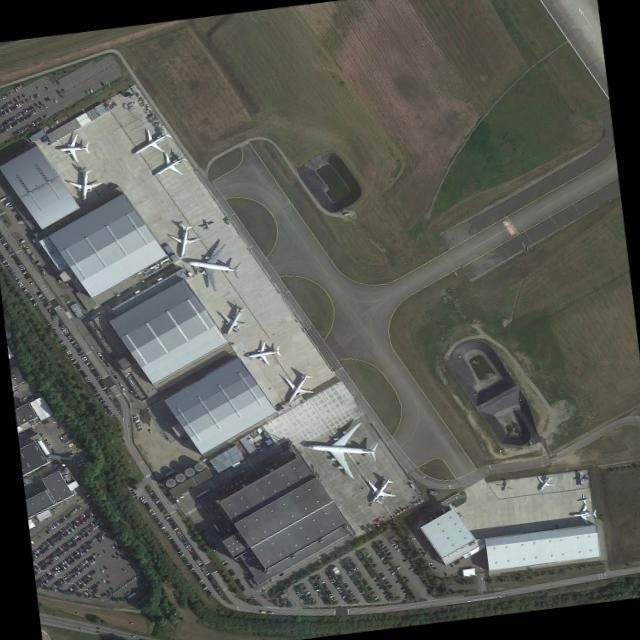plane: (299, 420, 389, 481), (179, 240, 251, 295), (124, 119, 181, 169), (142, 144, 197, 190), (353, 466, 406, 512), (273, 366, 324, 413), (209, 300, 259, 343), (64, 167, 105, 207), (55, 131, 96, 167), (241, 339, 286, 370), (167, 222, 203, 259), (529, 470, 561, 496), (567, 504, 599, 528), (492, 475, 518, 496), (197, 215, 219, 234), (575, 471, 591, 488), (576, 493, 593, 508)
small-vehicle: (31, 238, 37, 244), (100, 80, 105, 87), (31, 540, 36, 546), (33, 102, 39, 107), (206, 591, 212, 596), (279, 572, 284, 577), (51, 557, 56, 562), (43, 542, 48, 547), (55, 538, 60, 543), (54, 533, 59, 538), (57, 530, 62, 535), (19, 112, 24, 117), (30, 112, 35, 117), (0, 255, 5, 260), (44, 97, 49, 102), (38, 101, 43, 106), (379, 585, 384, 590), (94, 535, 99, 540), (97, 538, 102, 543), (111, 554, 116, 559), (76, 538, 81, 543), (54, 566, 59, 571), (89, 561, 94, 566), (75, 581, 80, 586), (72, 584, 77, 589), (64, 574, 69, 579), (134, 419, 140, 423), (20, 240, 26, 244), (5, 202, 11, 206), (8, 251, 14, 255), (229, 571, 235, 575), (222, 560, 228, 564), (203, 586, 209, 590), (198, 579, 204, 583), (196, 577, 202, 581), (164, 531, 170, 535), (96, 393, 101, 397), (94, 373, 99, 377), (98, 380, 103, 384), (68, 353, 73, 357), (98, 397, 103, 401), (121, 439, 126, 443), (120, 434, 124, 439), (96, 375, 101, 379), (83, 358, 88, 362), (81, 356, 86, 360), (78, 350, 83, 354), (66, 350, 71, 354), (60, 341, 65, 345), (55, 334, 60, 338), (99, 356, 104, 360), (97, 352, 102, 356), (130, 389, 134, 394), (86, 379, 91, 383), (121, 387, 126, 391), (119, 383, 124, 387), (95, 391, 100, 395), (102, 386, 107, 390), (61, 326, 66, 330), (59, 546, 63, 551), (40, 566, 45, 570), (39, 561, 44, 565), (38, 568, 42, 573), (33, 550, 38, 554), (35, 549, 40, 553), (80, 531, 85, 535), (78, 532, 83, 536), (75, 534, 80, 538), (70, 539, 75, 543), (68, 540, 73, 544), (66, 541, 71, 545), (55, 555, 60, 559), (67, 524, 71, 529), (71, 527, 75, 532), (76, 517, 80, 522), (78, 516, 83, 520), (88, 513, 92, 518), (50, 536, 55, 540), (40, 545, 45, 549), (46, 540, 50, 545), (49, 537, 53, 542), (52, 535, 57, 539), (59, 535, 63, 540), (56, 532, 61, 536), (64, 531, 69, 535), (61, 528, 66, 532), (59, 324, 64, 328), (38, 118, 42, 123), (39, 117, 44, 121), (45, 114, 49, 119), (13, 115, 17, 120), (31, 122, 36, 126), (13, 105, 18, 109), (13, 98, 18, 102), (2, 105, 7, 109), (24, 126, 28, 131), (13, 132, 18, 136), (62, 88, 66, 93), (46, 97, 51, 101), (54, 99, 58, 104), (19, 102, 24, 106), (36, 93, 40, 98), (3, 242, 8, 246), (65, 282, 69, 287), (25, 292, 30, 296), (14, 258, 19, 262), (17, 280, 22, 284), (6, 265, 11, 269), (21, 267, 26, 271), (24, 108, 29, 112), (1, 123, 6, 127), (3, 121, 8, 125), (5, 109, 10, 113), (26, 108, 31, 112), (1, 240, 6, 244), (18, 218, 23, 222), (15, 214, 20, 218), (26, 114, 30, 119), (85, 526, 90, 530), (193, 556, 198, 560), (316, 588, 321, 592), (298, 593, 303, 597), (236, 581, 241, 585), (235, 579, 240, 583), (317, 577, 322, 581), (340, 579, 345, 583), (231, 573, 236, 577), (228, 569, 233, 573), (224, 562, 229, 566), (201, 584, 206, 588), (207, 576, 212, 580), (175, 546, 180, 550), (374, 578, 379, 582), (387, 584, 392, 588), (368, 588, 373, 592), (389, 568, 394, 572), (370, 591, 375, 595), (102, 592, 107, 596), (106, 580, 111, 584), (359, 587, 363, 592), (358, 586, 363, 590), (352, 565, 357, 569), (357, 572, 362, 576), (384, 579, 389, 583), (397, 566, 402, 570), (93, 536, 97, 541), (80, 546, 85, 550), (73, 551, 78, 555), (69, 554, 74, 558), (66, 557, 71, 561), (57, 564, 62, 568), (114, 542, 119, 546), (60, 567, 65, 571), (70, 558, 75, 562), (100, 569, 105, 573), (79, 536, 84, 540), (59, 578, 64, 582), (55, 571, 60, 575), (53, 572, 57, 577), (58, 585, 62, 590), (57, 579, 62, 583), (46, 577, 51, 581), (42, 581, 46, 586), (103, 566, 108, 570), (84, 565, 89, 569), (77, 570, 81, 575), (180, 536, 185, 540), (168, 536, 173, 540), (166, 533, 171, 537), (161, 526, 166, 530), (102, 579, 107, 583), (95, 588, 100, 592), (70, 585, 75, 589), (80, 578, 85, 582), (66, 573, 71, 577), (79, 563, 83, 568), (76, 566, 81, 570), (71, 569, 76, 573), (106, 589, 110, 594), (92, 569, 96, 574), (90, 570, 94, 575), (84, 575, 89, 579), (137, 426, 143, 429), (0, 258, 6, 261), (2, 260, 8, 263), (332, 599, 338, 602), (380, 557, 386, 560), (90, 384, 94, 388), (89, 383, 93, 387), (88, 381, 92, 385), (83, 374, 87, 378), (56, 522, 60, 526), (54, 523, 58, 527), (53, 525, 57, 529), (49, 527, 53, 531), (47, 529, 51, 533), (45, 530, 49, 534), (38, 535, 42, 539), (149, 429, 153, 433), (149, 423, 153, 427), (106, 409, 110, 413), (106, 407, 110, 411), (65, 515, 69, 519), (65, 348, 69, 352), (61, 343, 65, 347), (70, 338, 74, 342), (130, 399, 134, 403), (111, 371, 115, 375), (101, 400, 105, 404), (93, 388, 97, 392), (63, 516, 67, 520), (67, 513, 71, 517), (61, 545, 65, 549), (57, 547, 61, 551), (55, 549, 59, 553), (52, 552, 56, 556), (50, 553, 54, 557), (47, 556, 51, 560), (37, 563, 41, 567), (36, 570, 40, 574), (38, 552, 42, 556), (36, 553, 40, 557), (37, 548, 41, 552), (64, 542, 68, 546), (41, 549, 45, 553), (67, 546, 71, 550), (84, 528, 88, 532), (82, 529, 86, 533), (77, 533, 81, 537), (74, 536, 78, 540), (72, 537, 76, 541), (44, 563, 48, 567), (64, 548, 68, 552), (60, 551, 64, 555), (58, 552, 62, 556), (53, 557, 57, 561), (49, 559, 53, 563), (48, 561, 52, 565), (38, 546, 42, 550), (43, 548, 47, 552), (89, 508, 93, 512), (79, 521, 83, 525), (72, 526, 76, 530), (69, 523, 73, 527), (71, 521, 75, 525), (77, 522, 81, 526), (73, 520, 77, 524), (75, 519, 79, 523), (81, 519, 85, 523), (83, 518, 87, 522), (86, 515, 90, 519), (87, 509, 91, 513), (85, 510, 89, 514), (82, 513, 86, 517), (66, 526, 70, 530), (64, 527, 68, 531), (45, 547, 49, 551), (42, 543, 46, 547), (47, 545, 51, 549), (50, 542, 54, 546), (47, 539, 51, 543), (52, 541, 56, 545), (54, 539, 58, 543), (67, 530, 71, 534), (57, 537, 61, 541), (61, 534, 65, 538), (60, 530, 64, 534), (63, 328, 67, 332), (87, 524, 91, 528), (16, 120, 20, 124), (9, 125, 13, 129), (16, 115, 20, 119), (17, 114, 21, 118), (23, 110, 27, 114), (36, 120, 40, 124), (34, 110, 38, 114), (5, 93, 9, 97), (11, 106, 15, 110), (33, 94, 37, 98), (20, 129, 24, 133), (22, 128, 26, 132), (26, 125, 30, 129), (32, 111, 36, 115), (40, 107, 44, 111), (9, 91, 13, 95), (1, 95, 5, 99), (46, 87, 50, 91), (36, 86, 40, 90), (44, 105, 48, 109), (4, 111, 8, 115), (0, 113, 4, 117), (85, 91, 89, 95), (18, 96, 22, 100), (22, 94, 26, 98), (25, 98, 29, 102), (30, 96, 34, 100), (90, 89, 94, 93), (40, 267, 44, 271), (10, 205, 14, 209), (25, 290, 29, 294), (30, 281, 34, 285), (26, 276, 30, 280), (11, 272, 15, 276), (9, 268, 13, 272), (8, 266, 12, 270), (6, 263, 10, 267), (21, 111, 25, 115), (18, 119, 22, 123), (12, 122, 16, 126), (10, 123, 14, 127), (5, 120, 9, 124), (7, 119, 11, 123), (9, 118, 13, 122), (11, 117, 15, 121), (15, 88, 19, 92), (56, 81, 60, 85), (9, 107, 13, 111), (24, 115, 28, 119), (28, 113, 32, 117), (242, 589, 246, 593), (337, 586, 341, 590), (342, 581, 346, 585), (337, 574, 341, 578), (339, 589, 343, 593), (201, 565, 205, 569), (212, 581, 216, 585), (195, 574, 199, 578), (206, 574, 210, 578), (174, 545, 178, 549), (173, 543, 177, 547), (366, 567, 370, 571), (323, 586, 327, 590), (374, 564, 378, 568), (103, 360, 107, 364), (434, 514, 438, 518), (432, 515, 436, 519), (427, 518, 431, 522), (375, 596, 379, 600), (362, 560, 366, 564), (351, 576, 355, 580), (370, 559, 374, 563), (450, 563, 454, 567), (458, 558, 462, 562), (456, 560, 460, 564), (397, 548, 401, 552), (91, 522, 95, 526), (102, 530, 106, 534), (100, 531, 104, 535), (97, 534, 101, 538), (87, 541, 91, 545), (85, 542, 89, 546), (79, 548, 83, 552), (76, 551, 80, 555), (68, 556, 72, 560), (63, 560, 67, 564), (62, 561, 66, 565), (101, 536, 105, 540), (104, 550, 108, 554), (111, 545, 115, 549), (123, 568, 127, 572), (127, 564, 131, 568), (80, 552, 84, 556), (78, 553, 82, 557), (73, 558, 77, 562), (68, 562, 72, 566), (66, 563, 70, 567), (64, 564, 68, 568), (57, 570, 61, 574), (82, 535, 86, 539), (42, 576, 46, 580), (40, 577, 44, 581), (38, 578, 42, 582), (85, 532, 89, 536), (83, 533, 87, 537), (45, 573, 49, 577), (78, 537, 82, 541), (73, 542, 77, 546), (71, 543, 75, 547), (69, 544, 73, 548), (94, 525, 98, 529), (95, 520, 99, 524), (56, 565, 60, 569), (54, 588, 58, 592), (56, 587, 60, 591), (63, 581, 67, 585), (54, 582, 58, 586), (53, 584, 57, 588), (50, 569, 54, 573), (50, 574, 54, 578), (48, 576, 52, 580), (43, 580, 47, 584), (142, 498, 146, 502), (93, 559, 97, 563), (92, 560, 96, 564), (82, 567, 86, 571), (80, 568, 84, 572), (92, 554, 96, 558), (148, 507, 152, 511), (86, 558, 90, 562), (152, 512, 156, 516), (156, 500, 160, 504), (88, 557, 92, 561), (82, 582, 86, 586), (79, 585, 83, 589), (69, 587, 73, 591), (68, 588, 72, 592), (66, 590, 70, 594), (93, 589, 97, 593), (91, 591, 95, 595), (89, 593, 93, 597), (94, 584, 98, 588), (92, 585, 96, 589), (90, 586, 94, 590), (89, 588, 93, 592), (86, 590, 90, 594), (110, 587, 114, 591), (97, 583, 101, 587), (78, 581, 82, 585), (83, 561, 87, 565), (81, 562, 85, 566), (77, 565, 81, 569), (70, 570, 74, 574), (68, 572, 72, 576), (69, 576, 73, 580), (67, 577, 71, 581), (63, 576, 67, 580), (88, 572, 92, 576), (88, 578, 92, 582), (84, 581, 88, 585), (87, 574, 91, 578), (90, 369, 95, 372), (100, 385, 105, 388), (91, 387, 96, 390), (81, 373, 86, 376), (80, 371, 85, 374), (75, 364, 80, 367), (74, 362, 79, 365), (63, 347, 68, 350), (103, 388, 108, 391), (75, 347, 80, 350), (139, 429, 144, 432), (107, 411, 112, 414), (104, 405, 109, 408), (74, 345, 79, 348), (67, 352, 72, 355), (90, 367, 95, 370), (84, 376, 89, 379), (57, 338, 62, 341), (73, 344, 78, 347), (71, 340, 76, 343), (67, 335, 72, 338), (65, 331, 70, 334), (65, 333, 70, 336), (133, 415, 138, 418), (109, 413, 114, 416), (108, 393, 113, 396), (106, 392, 111, 395), (97, 395, 102, 398), (48, 555, 53, 558), (42, 565, 47, 568), (65, 547, 70, 550), (17, 86, 20, 91), (11, 100, 14, 105), (49, 326, 54, 329), (40, 297, 45, 300), (8, 204, 13, 207), (38, 265, 43, 268), (38, 294, 43, 297), (30, 299, 35, 302), (17, 263, 22, 266), (13, 257, 18, 260), (11, 255, 16, 258), (4, 244, 9, 247), (8, 250, 13, 253), (15, 277, 20, 280), (30, 297, 35, 300), (23, 289, 28, 292), (21, 285, 26, 288), (18, 282, 23, 285), (12, 274, 17, 277), (19, 266, 24, 269), (18, 264, 23, 267), (3, 261, 8, 264), (11, 209, 16, 212), (0, 239, 5, 242), (311, 582, 316, 585), (310, 580, 315, 583), (306, 592, 311, 595), (303, 587, 308, 590), (297, 592, 302, 595), (296, 590, 301, 593), (319, 594, 324, 597), (97, 631, 102, 634), (239, 585, 244, 588), (339, 578, 344, 581), (319, 580, 324, 583), (330, 578, 335, 581), (331, 597, 336, 600), (329, 595, 334, 598), (325, 588, 330, 591), (190, 568, 195, 571), (213, 548, 218, 551), (208, 595, 213, 598), (205, 588, 210, 591), (202, 567, 207, 570), (185, 561, 190, 564), (158, 523, 163, 526), (214, 587, 219, 590), (211, 583, 216, 586), (213, 585, 218, 588), (195, 577, 200, 580), (208, 578, 213, 581), (188, 566, 193, 569), (176, 549, 181, 552), (364, 583, 369, 586), (363, 581, 368, 584), (362, 579, 367, 582), (380, 575, 385, 578), (379, 573, 384, 576), (385, 550, 390, 553), (356, 571, 361, 574), (192, 555, 197, 558), (191, 553, 196, 556), (100, 594, 105, 597), (92, 372, 97, 375), (106, 363, 109, 368), (353, 581, 358, 584), (355, 583, 360, 586), (358, 574, 363, 577), (363, 562, 368, 565), (382, 577, 387, 580), (383, 560, 388, 563), (360, 559, 365, 562), (358, 555, 363, 558), (389, 587, 394, 590), (391, 572, 396, 575), (361, 578, 366, 581), (347, 571, 352, 574), (360, 590, 365, 593), (368, 556, 373, 559), (394, 545, 399, 548), (180, 554, 185, 557), (88, 545, 93, 548), (59, 563, 64, 566), (75, 540, 78, 545), (92, 521, 97, 524), (47, 572, 52, 575), (52, 568, 57, 571), (187, 547, 192, 550), (143, 500, 148, 503), (149, 492, 154, 495), (131, 491, 136, 494), (85, 564, 90, 567), (148, 509, 153, 512), (150, 511, 155, 514), (184, 541, 189, 544), (177, 533, 182, 536), (175, 529, 180, 532), (166, 517, 171, 520), (174, 528, 179, 531), (163, 530, 168, 533), (157, 521, 162, 524), (154, 516, 159, 519), (154, 499, 159, 502), (80, 579, 83, 584), (73, 568, 78, 571), (82, 577, 87, 580), (94, 390, 98, 393), (100, 383, 104, 386), (114, 375, 117, 379), (87, 363, 91, 366), (79, 370, 83, 373), (72, 359, 76, 362), (62, 345, 66, 348), (59, 340, 63, 343), (60, 520, 64, 523), (58, 521, 62, 524), (51, 527, 55, 530), (103, 404, 107, 407), (137, 423, 141, 426), (77, 349, 81, 352), (78, 368, 82, 371), (73, 361, 77, 364), (89, 365, 93, 368), (86, 362, 90, 365), (71, 357, 75, 360), (70, 356, 74, 359), (57, 336, 61, 339), (69, 337, 73, 340), (64, 330, 68, 333), (44, 319, 48, 322), (100, 399, 104, 402), (44, 559, 47, 563), (62, 544, 66, 547), (54, 551, 58, 554), (45, 558, 49, 561), (41, 560, 45, 563), (34, 555, 38, 558), (40, 551, 44, 554), (62, 550, 66, 553), (57, 554, 61, 557), (46, 562, 50, 565), (74, 525, 78, 528), (76, 523, 79, 527), (68, 529, 72, 532), (80, 515, 84, 518), (85, 516, 88, 520), (84, 512, 87, 516), (90, 513, 94, 516), (49, 544, 52, 548), (63, 533, 66, 537), (44, 115, 47, 119), (23, 117, 26, 121), (7, 126, 10, 130), (6, 127, 9, 131), (34, 121, 37, 125), (1, 106, 4, 110), (5, 104, 8, 108), (18, 130, 21, 134), (2, 111, 5, 115), (3, 95, 7, 98), (9, 108, 12, 112), (7, 103, 10, 107), (0, 108, 3, 112), (16, 104, 19, 108), (18, 103, 21, 107), (22, 100, 25, 104), (6, 200, 10, 203), (7, 248, 11, 251), (28, 296, 32, 299), (22, 287, 26, 290), (16, 279, 20, 282), (15, 261, 19, 264), (47, 323, 51, 326), (33, 303, 37, 306), (20, 284, 24, 287), (23, 271, 27, 274), (20, 118, 24, 121), (28, 107, 32, 110), (0, 124, 3, 128), (31, 105, 34, 109), (0, 254, 3, 258), (5, 246, 9, 249), (0, 237, 4, 240), (28, 124, 31, 128), (30, 124, 34, 127), (89, 524, 93, 527), (261, 611, 267, 613), (314, 585, 318, 588), (309, 595, 313, 598), (269, 612, 275, 614), (97, 627, 101, 630), (241, 587, 245, 590), (349, 592, 353, 595), (343, 583, 347, 586), (339, 576, 343, 579), (336, 573, 340, 576), (338, 588, 342, 591), (336, 585, 340, 588), (332, 580, 336, 583), (329, 574, 332, 578), (343, 595, 347, 598), (329, 593, 333, 596), (321, 581, 325, 584), (239, 584, 243, 587), (205, 536, 209, 539), (200, 582, 204, 585), (206, 573, 210, 576), (167, 518, 171, 521), (205, 571, 209, 574), (203, 569, 207, 572), (199, 562, 203, 565), (198, 560, 202, 563), (196, 559, 200, 562), (187, 563, 191, 566), (182, 556, 186, 559), (169, 520, 173, 523), (206, 590, 210, 593), (194, 573, 198, 576), (191, 570, 195, 573), (210, 580, 214, 583), (169, 538, 173, 541), (179, 552, 183, 555), (172, 542, 176, 545), (170, 540, 174, 543), (350, 594, 354, 597), (344, 585, 348, 588), (385, 581, 389, 584), (371, 574, 375, 577), (368, 569, 372, 572), (333, 581, 337, 584), (348, 590, 352, 593), (403, 576, 407, 579), (390, 557, 394, 560), (403, 559, 407, 562), (367, 586, 371, 589), (191, 552, 195, 555), (425, 519, 428, 523), (351, 564, 355, 567), (348, 559, 352, 562), (366, 597, 370, 600), (367, 554, 371, 557), (357, 553, 361, 556), (386, 595, 390, 598), (356, 569, 360, 572), (354, 567, 358, 570), (352, 578, 356, 581), (349, 573, 353, 576), (363, 594, 367, 597), (364, 595, 368, 598), (342, 562, 346, 565), (429, 562, 433, 565), (369, 558, 373, 561), (375, 549, 379, 552), (445, 573, 448, 577), (454, 561, 457, 565), (437, 557, 440, 561), (406, 580, 410, 583), (397, 580, 401, 583), (377, 552, 381, 555), (382, 545, 386, 548), (190, 550, 194, 553), (82, 545, 86, 548), (99, 533, 103, 536), (84, 544, 88, 547), (78, 549, 81, 553), (72, 553, 75, 557), (99, 554, 102, 558), (117, 557, 121, 560), (115, 552, 119, 555), (87, 546, 90, 550), (86, 548, 89, 552), (82, 551, 86, 554), (77, 555, 80, 559), (75, 556, 78, 560), (70, 560, 73, 564), (63, 566, 67, 569), (37, 580, 41, 583), (92, 527, 96, 530), (91, 528, 94, 532), (89, 530, 93, 533), (87, 531, 91, 534), (96, 524, 100, 527), (100, 522, 104, 525), (44, 575, 48, 578), (59, 568, 62, 572), (59, 584, 63, 587), (61, 583, 65, 586), (45, 579, 49, 582), (56, 581, 60, 584), (51, 586, 55, 589), (40, 583, 44, 586), (107, 575, 111, 578), (147, 506, 151, 509), (140, 497, 144, 500), (134, 497, 138, 500), (134, 494, 138, 497), (75, 573, 79, 576), (73, 574, 77, 577), (71, 575, 75, 578), (90, 556, 94, 559), (186, 545, 190, 548), (185, 543, 189, 546), (181, 538, 185, 541), (179, 535, 183, 538), (177, 531, 181, 534), (153, 497, 157, 500), (160, 525, 164, 528), (157, 519, 161, 522), (155, 518, 159, 521), (85, 559, 88, 563), (80, 584, 84, 587), (74, 589, 77, 593), (76, 587, 79, 591), (85, 592, 88, 596), (98, 582, 102, 585), (66, 579, 69, 583), (86, 579, 89, 583), (45, 321, 50, 323), (134, 418, 139, 420), (42, 299, 47, 301), (13, 276, 18, 278), (79, 628, 84, 630), (183, 558, 188, 560), (349, 562, 354, 564), (432, 567, 437, 569), (421, 552, 426, 554), (106, 390, 109, 393), (62, 518, 65, 521), (16, 131, 19, 134), (9, 102, 12, 105), (3, 128, 6, 131), (1, 129, 4, 132), (352, 595, 355, 598), (271, 579, 274, 582), (334, 583, 337, 586), (430, 517, 433, 520), (374, 576, 377, 579), (361, 576, 364, 579), (429, 545, 432, 548), (92, 539, 95, 542), (90, 540, 93, 543), (65, 559, 68, 562), (84, 550, 87, 553), (33, 557, 36, 560), (79, 570, 82, 573), (94, 553, 97, 556), (90, 577, 93, 580), (97, 378, 101, 380), (85, 379, 89, 381), (52, 332, 56, 334), (102, 403, 106, 405), (10, 271, 14, 273), (0, 130, 2, 134), (131, 635, 135, 637), (319, 592, 323, 594), (346, 587, 350, 589), (322, 583, 326, 585), (192, 572, 196, 574), (178, 551, 182, 553), (323, 585, 327, 587), (388, 553, 392, 555), (371, 562, 375, 564), (430, 565, 434, 567), (419, 549, 423, 551), (412, 538, 416, 540), (410, 568, 414, 570), (131, 490, 135, 492), (0, 126, 2, 129), (0, 253, 2, 256), (0, 236, 2, 239), (355, 599, 358, 601), (423, 555, 427, 556), (0, 115, 1, 117)
